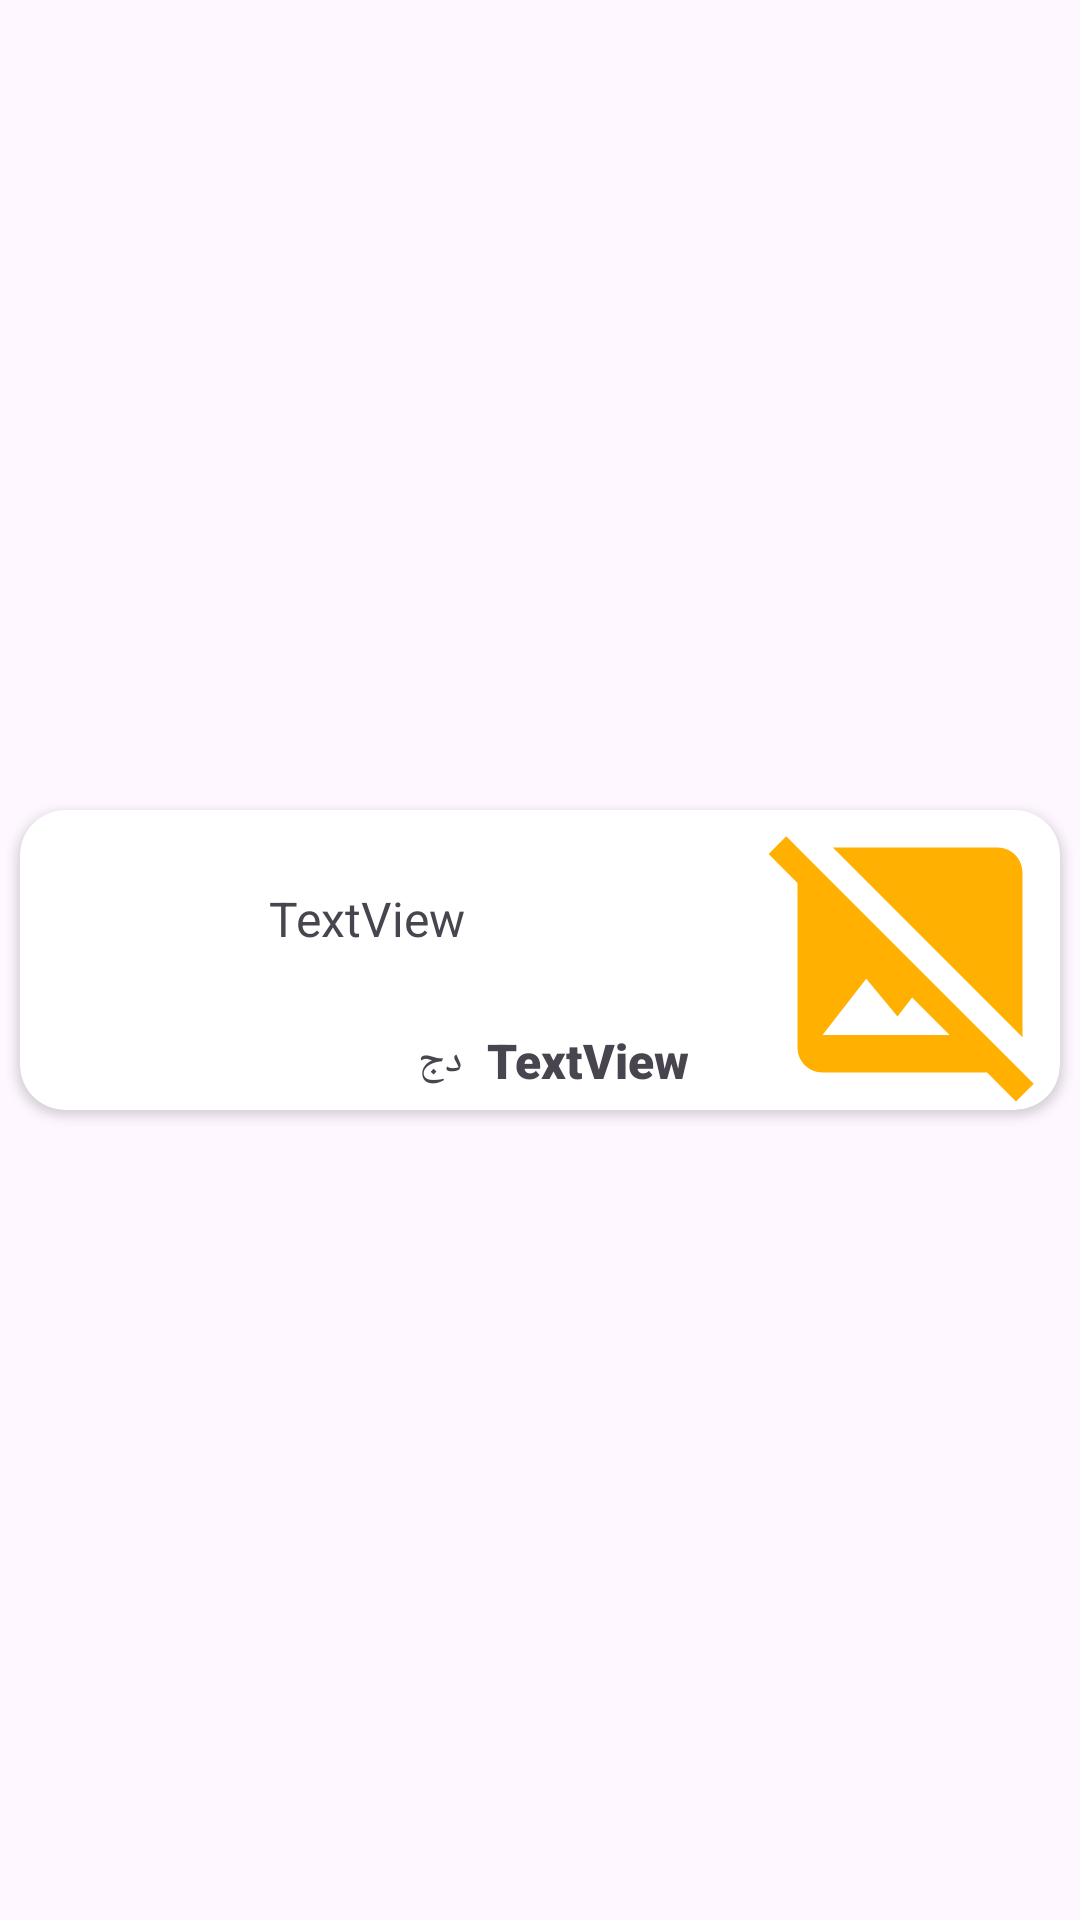

Screen size 1080x1920. Icon name, then its center in pixels as (x,y):
not supported: (901,969)
